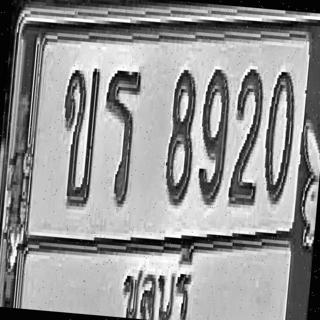A02: (55, 63, 101, 207)
A35: (96, 66, 142, 208)
N00: (260, 68, 298, 205)
N02: (227, 65, 267, 206)
N08: (162, 66, 200, 206)
N09: (194, 65, 233, 206)
P13: (116, 238, 200, 320)
